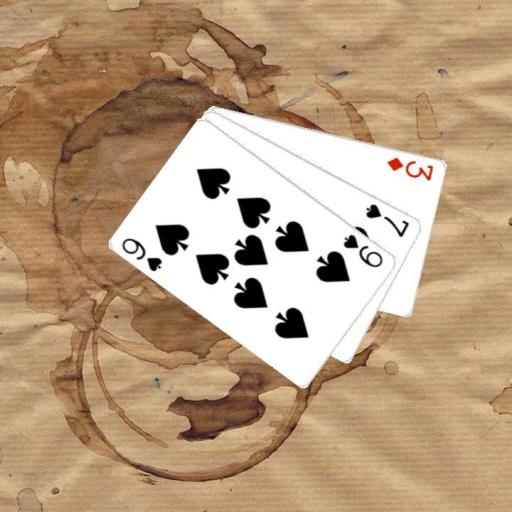3D: (384, 154, 435, 183)
7S: (363, 200, 412, 239)
9S: (340, 231, 385, 270), (119, 234, 164, 273)
